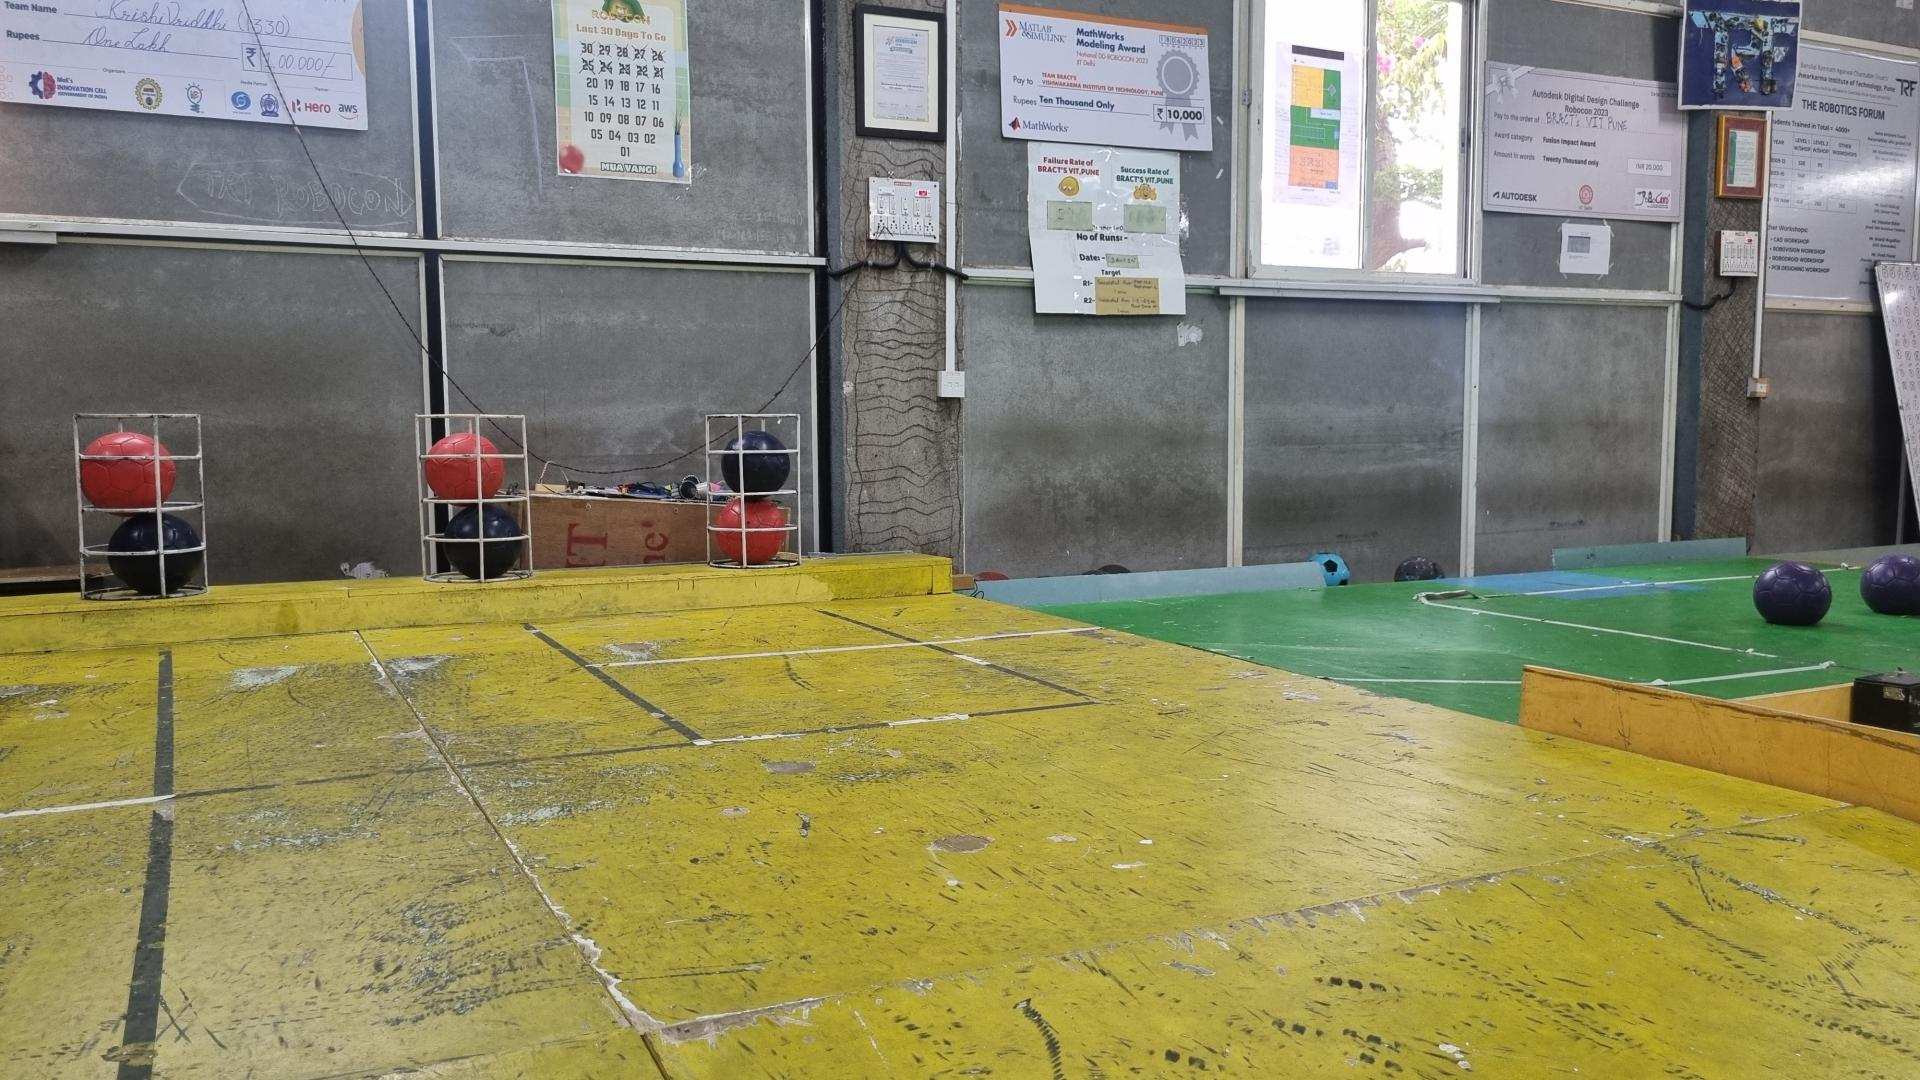dhoka: (108, 513, 203, 596), (443, 506, 521, 580), (720, 431, 791, 495)
laale: (79, 431, 177, 509), (423, 431, 506, 498)
